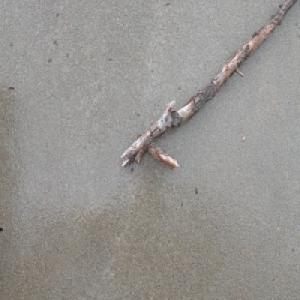Wood: (118, 0, 299, 171)
